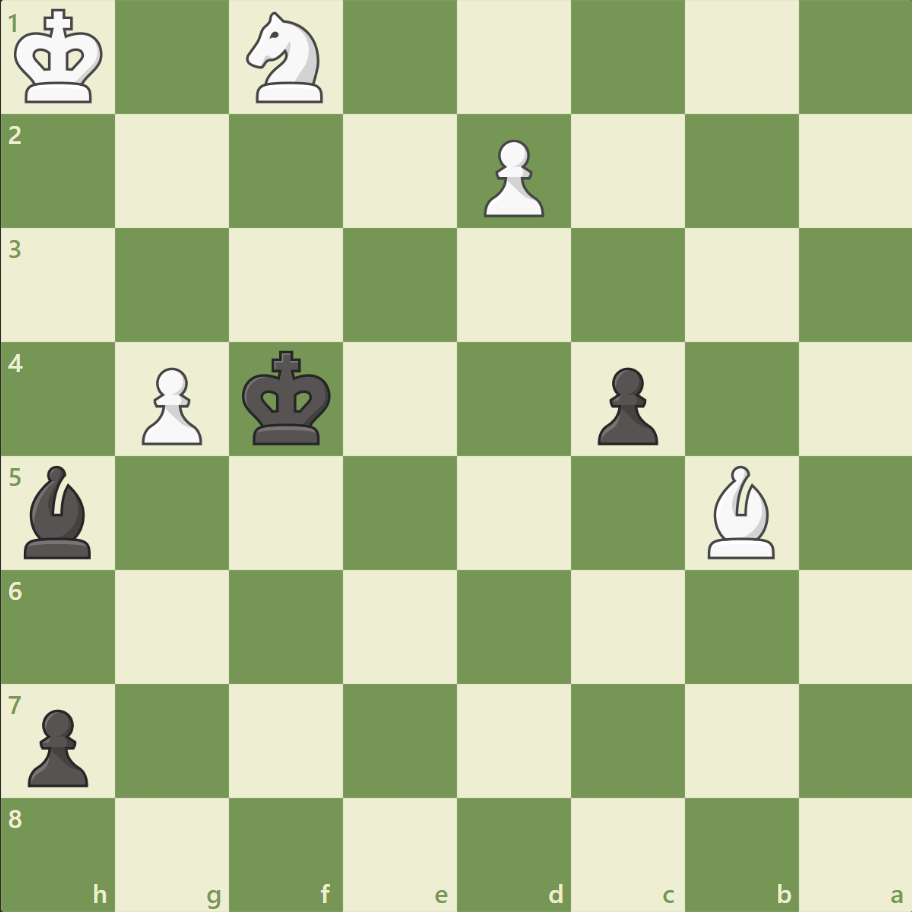B: (698, 460, 782, 563)
K: (11, 4, 111, 112)
N: (238, 7, 335, 110)
P: (133, 359, 208, 450), (474, 132, 549, 223)
b: (17, 460, 101, 563)
k: (238, 344, 338, 452)
p: (20, 700, 95, 791), (588, 359, 662, 450)
